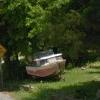Boat: (18, 47, 67, 83)
